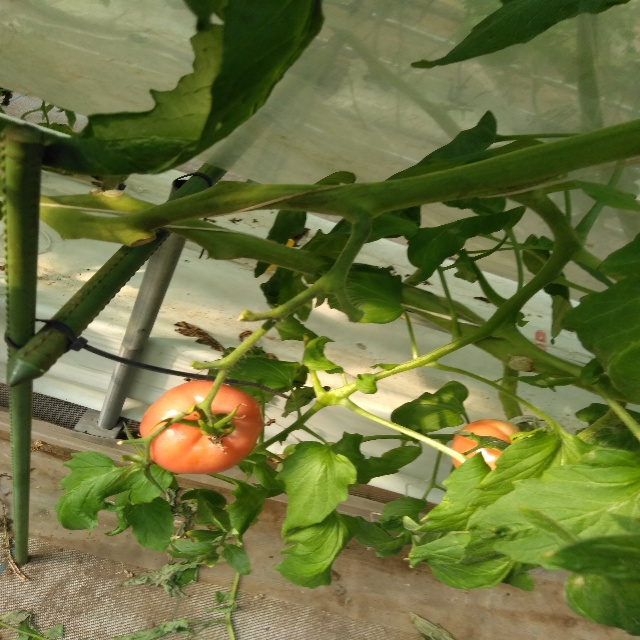b_half_ripened: (139, 381, 262, 474), (452, 419, 527, 473)
